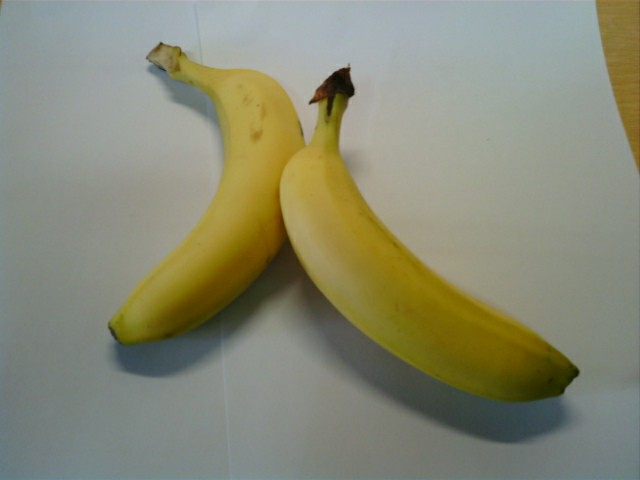fresh_banana: (282, 138, 581, 408), (103, 63, 306, 343)
